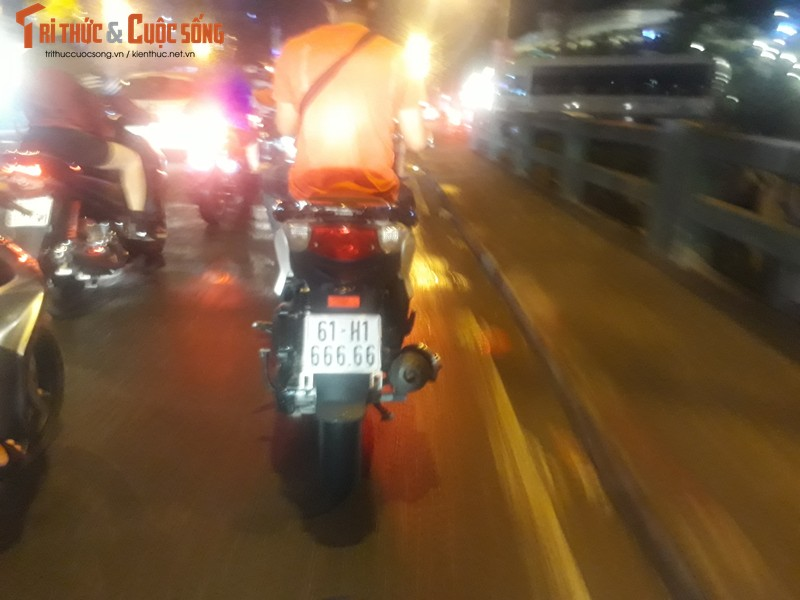bien_so: (299, 311, 386, 379), (6, 193, 58, 231)
